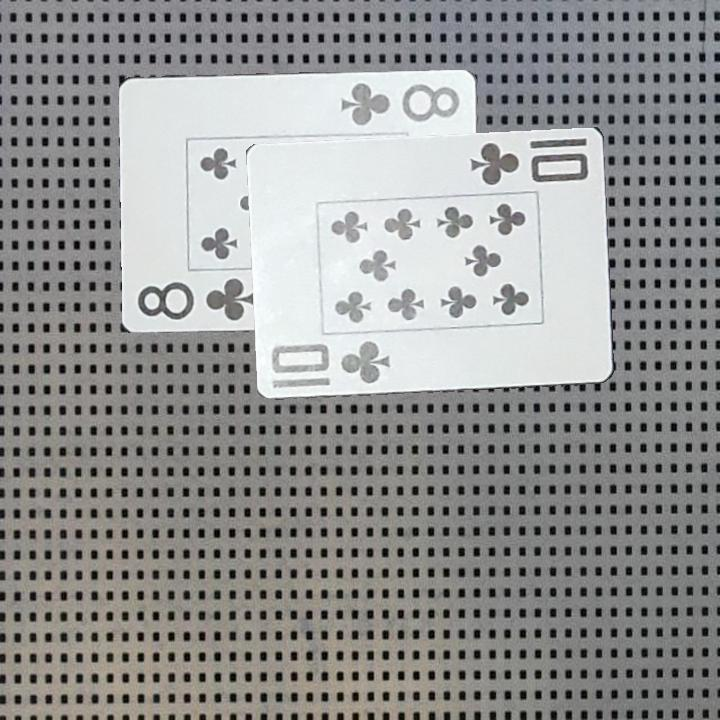8c: (337, 79, 462, 129), (133, 275, 257, 324)
Tc: (268, 336, 394, 391), (466, 138, 592, 188)
